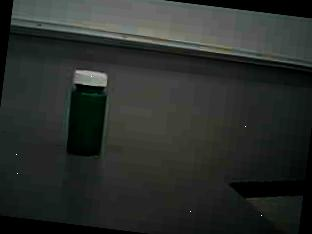Bottle C: (54, 60, 124, 166)
